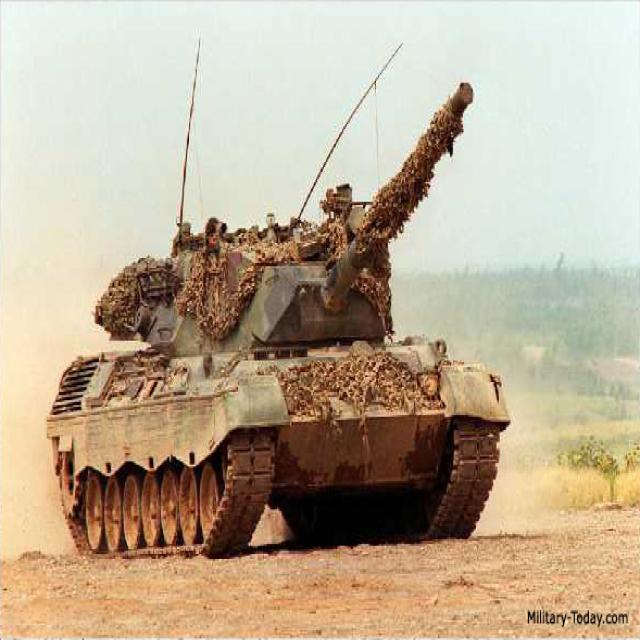Tank: (55, 193, 505, 562)
